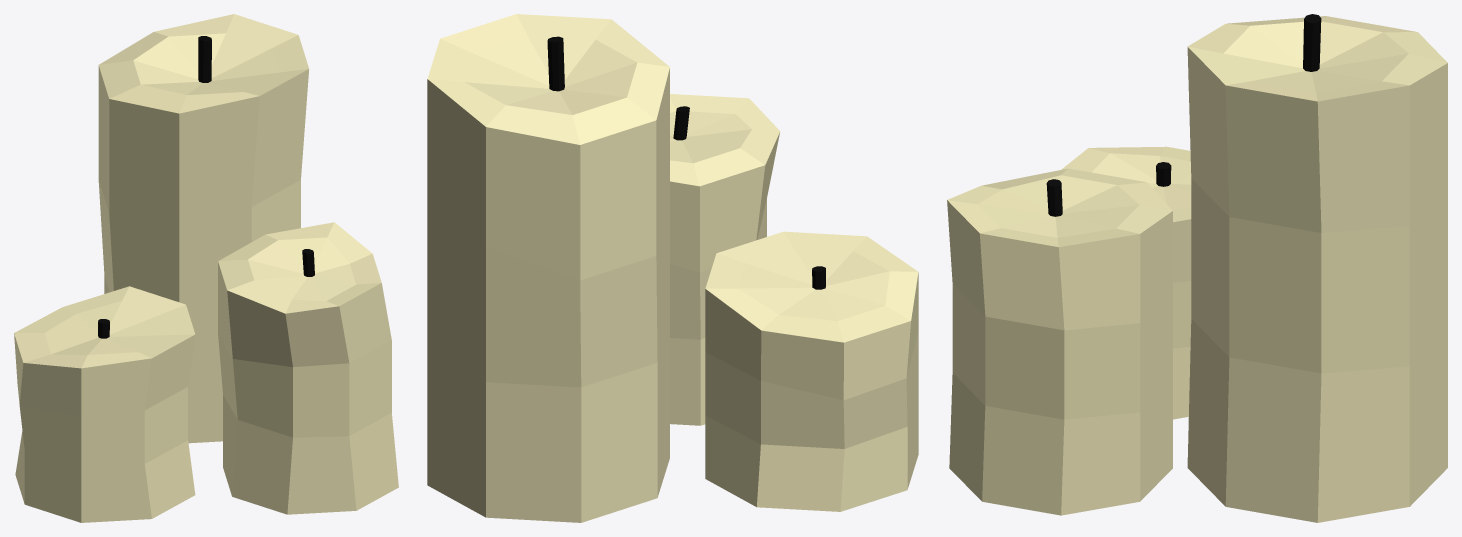
The model's file is GrupoVelas.fbx.
3 renders of one model, left to right at view 1: azimuth 30°, elevation 25°; view 2: azimuth 150°, elevation 25°; view 3: azimuth 270°, elevation 25°, orthographic. The views are drawn at different scales.
Visible parts, largest first — view 1: Vela (Grupo); view 2: Vela (Grupo); view 3: Vela (Grupo).
Part boxes in pixels (x1=…): Vela (Grupo): x1=14, y1=14, x2=398, y2=522; Vela (Grupo): x1=427, y1=14, x2=918, y2=522; Vela (Grupo): x1=947, y1=14, x2=1447, y2=522.
Bounding box in the file's own units: 257 × 266 × 269.
Materials: 1 (1 with a texture image).
